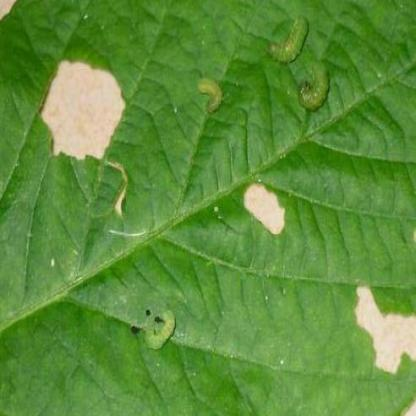armyworm: (266, 16, 311, 70), (144, 307, 178, 354), (296, 68, 333, 111), (192, 76, 226, 118)
